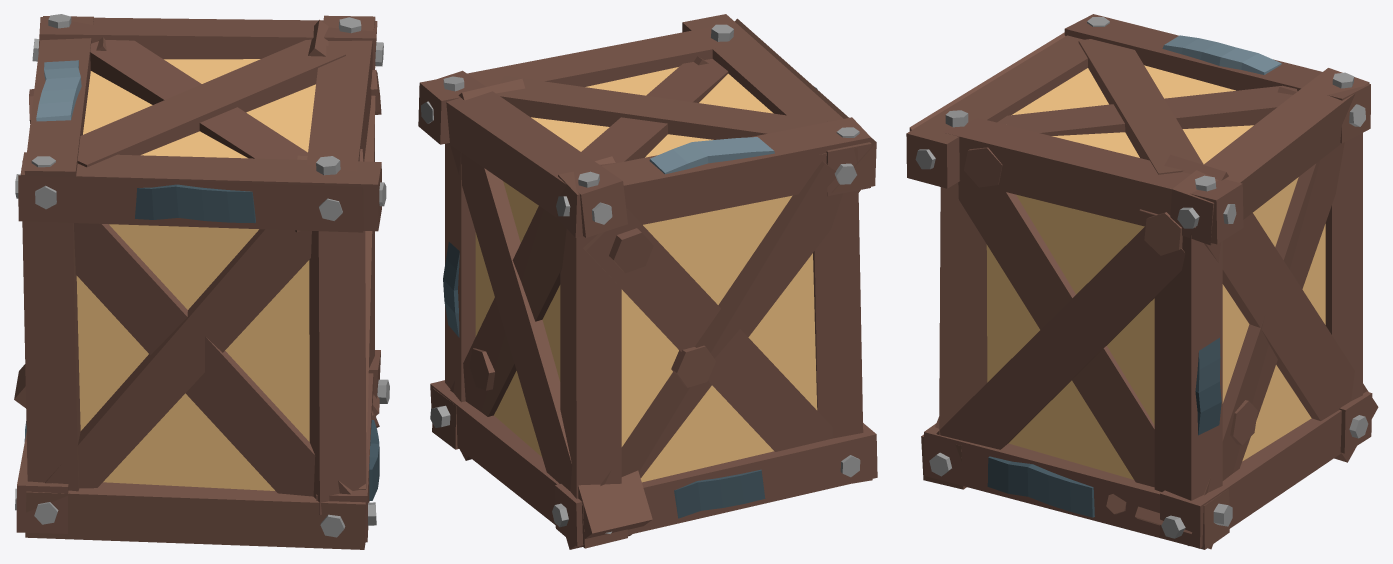
Rendered from big-chest.obj.
The picture shows the model from 3 angles, left to right: view 1: azimuth 30°, elevation 25°; view 2: azimuth 150°, elevation 25°; view 3: azimuth 270°, elevation 25°; orthographic projection. The views are drawn at different scales.
Visible parts, largest first — view 1: group296159037, group1993775750, group1358660051, group2085897775, group372432383, group1477337394, group788353307, group1901953213, group54111707, group2074112209, group1379742800, group167565392 (+9 smaller); view 2: group296159037, group480342746, group183176809, group1429258686, group810658711, group672925867, group54111707, group1477337394, group1685916209, group1901953213, group167565392, group1476228765 (+12 smaller); view 3: group296159037, group1218546536, group167565392, group390294391, group480342746, group1790295763, group54111707, group372432383, group1476228765, group2133597097, group526140280, group2074112209 (+12 smaller).
Boxes of the visible parts, <box> form: group296159037: <box>76,59,315,490</box>; group1993775750: <box>74,223,352,496</box>; group1358660051: <box>45,229,311,488</box>; group2085897775: <box>25,481,368,549</box>; group372432383: <box>309,231,366,514</box>; group1477337394: <box>21,168,80,491</box>; group788353307: <box>18,175,363,232</box>; group1901953213: <box>77,39,345,167</box>; group54111707: <box>38,17,377,69</box>; group2074112209: <box>20,152,381,231</box>; group1379742800: <box>90,40,307,232</box>; group167565392: <box>306,15,375,171</box>; group296159037: <box>475,67,817,482</box>; group480342746: <box>450,78,652,549</box>; group183176809: <box>583,209,832,451</box>; group1429258686: <box>560,229,621,498</box>; group810658711: <box>600,161,860,485</box>; group672925867: <box>556,117,871,237</box>; group54111707: <box>437,70,627,237</box>; group1477337394: <box>813,147,863,438</box>; group1685916209: <box>555,423,877,546</box>; group1901953213: <box>496,76,827,139</box>; group167565392: <box>418,27,721,144</box>; group1476228765: <box>450,156,615,460</box>; group296159037: <box>986,65,1325,479</box>; group1218546536: <box>936,226,1185,449</box>; group167565392: <box>941,118,1243,244</box>; group390294391: <box>1154,233,1222,500</box>; group480342746: <box>1139,154,1378,462</box>; group1790295763: <box>958,124,1154,487</box>; group54111707: <box>1170,68,1369,245</box>; group372432383: <box>939,182,987,435</box>; group1476228765: <box>1135,86,1344,549</box>; group2133597097: <box>924,423,1229,549</box>; group526140280: <box>1159,410,1341,548</box>; group2074112209: <box>906,35,1087,188</box>.
Bounding box in the file's own units: 0.2008 × 0.1827 × 0.2056.
